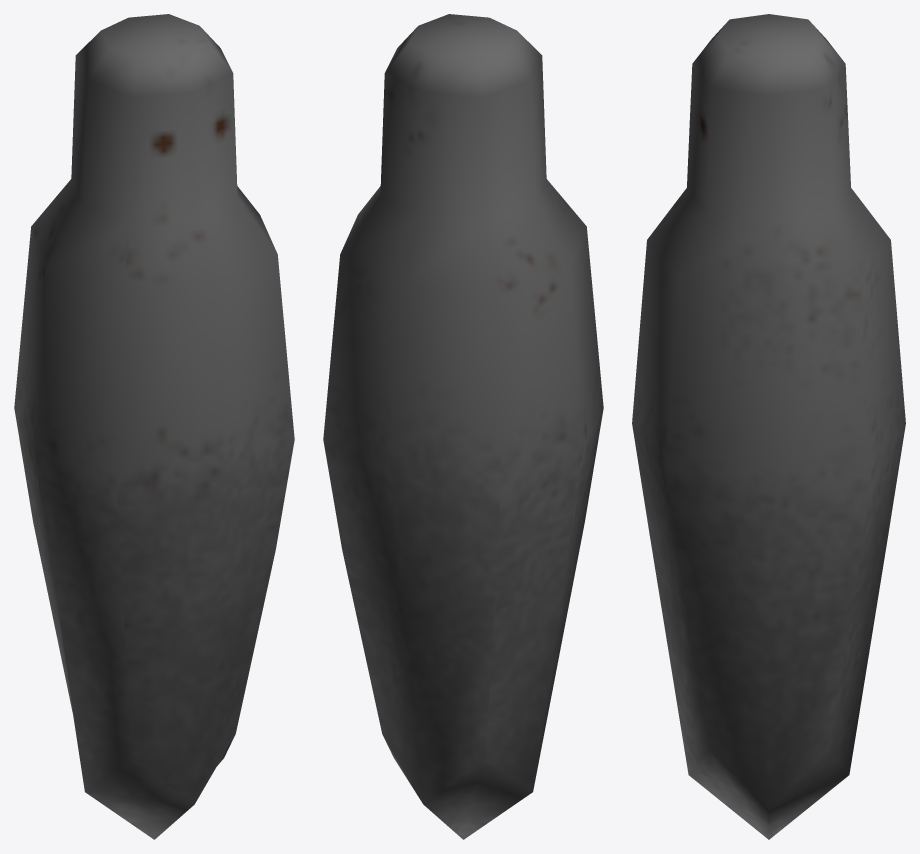
The model's file is Rock5.fbx.
3 renders of one model, left to right at view 1: azimuth 30°, elevation 25°; view 2: azimuth 150°, elevation 25°; view 3: azimuth 270°, elevation 25°, orthographic.
Parts seen in each view (by area): view 1: polySurface2; view 2: polySurface2; view 3: polySurface2.
Boxes of the visible parts, x1,y1,x2,y2 form: polySurface2: (14, 14, 294, 839); polySurface2: (323, 14, 603, 839); polySurface2: (632, 14, 905, 839).
Bounding box in the file's own units: 1 × 3.24 × 1.
1 material, 1 textured.
